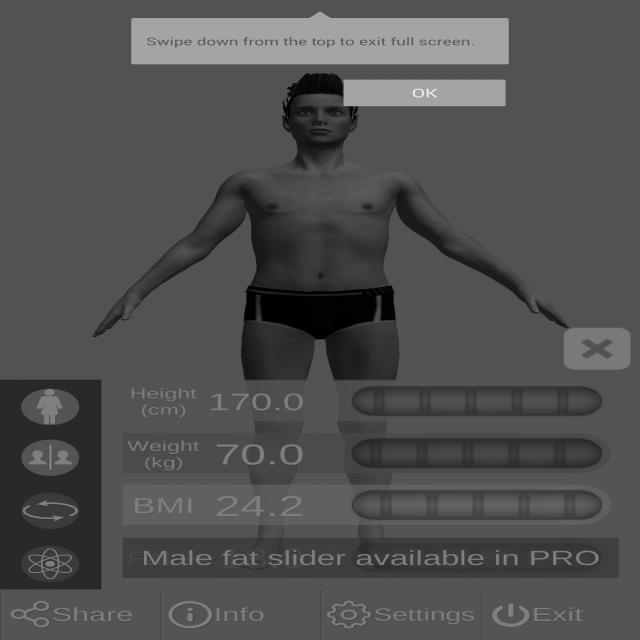Button: (336, 76, 518, 110), (560, 324, 634, 374)
ImageView: (16, 437, 90, 477), (15, 386, 86, 426), (14, 494, 86, 530), (21, 544, 84, 579), (323, 598, 372, 632), (162, 600, 212, 630), (490, 599, 532, 632), (11, 600, 48, 628)
TextView: (143, 546, 606, 566), (141, 32, 480, 49), (122, 434, 197, 473), (208, 491, 308, 518), (126, 386, 198, 418), (55, 602, 144, 624), (376, 605, 474, 622), (217, 607, 273, 624), (534, 606, 587, 622)
